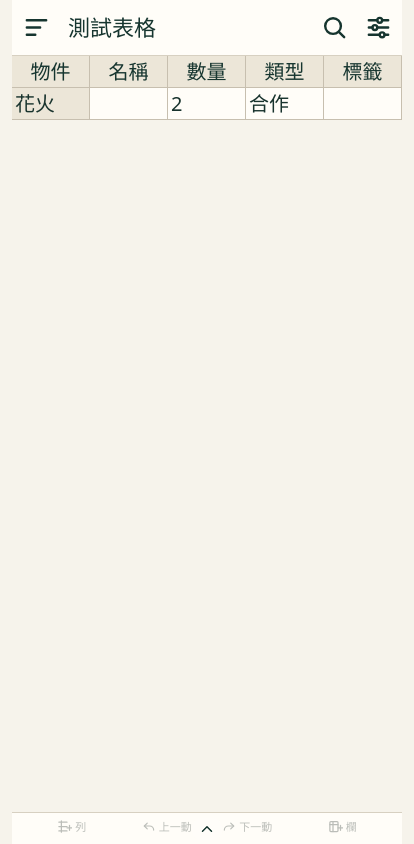
WorkspacePage.navigation › expands the mobile quick-action panel and keeps its four actions connected to table history
The width and height of the screenshot is (414, 844).
Step 1. Click the button with aria-label "展開快速操作" → (207, 828), box [12,813,402,843]
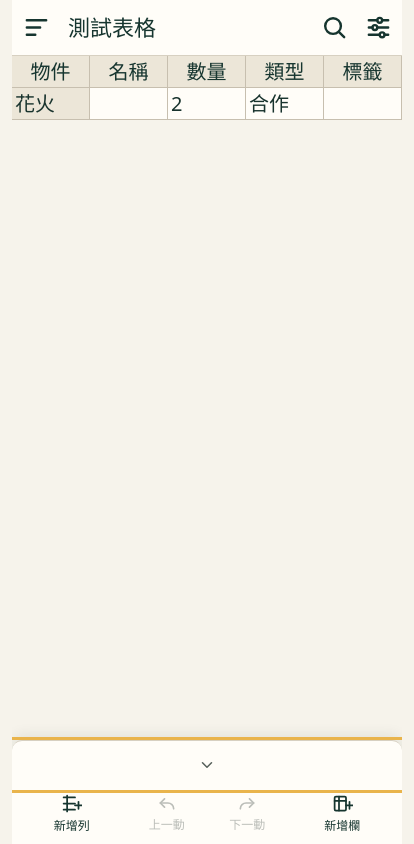
Expected: the button "上一動" is disabled, [128,787,205,839]
Expected: the button "下一動" is disabled, [209,787,286,839]
Step 2. Click the button "新增列" → (72, 813), box [19,787,124,839]
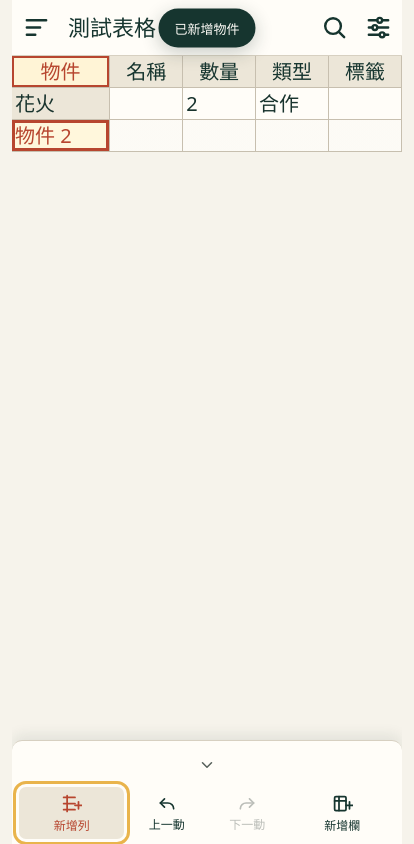
Expected: the element named "快速操作" is shown, [12,787,402,843]
Expected: the row "物件 2" is shown, [12,120,402,152]
Expected: the button "上一動" is enabled
Step 3. Click the button "上一動" → (167, 813), box [128,787,205,839]
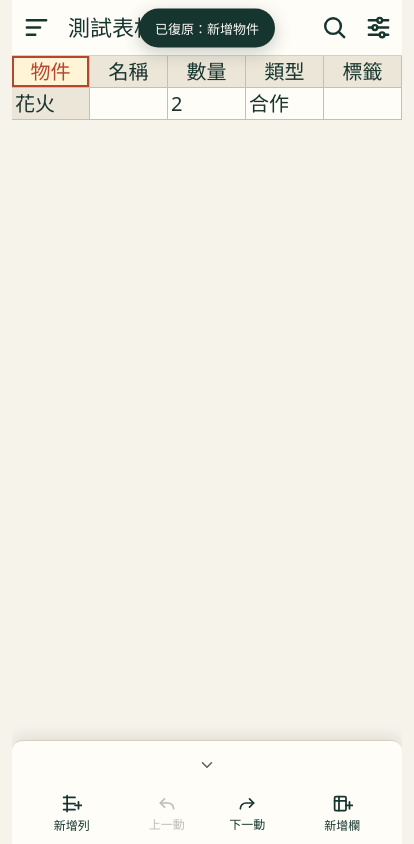
Expected: the button "物件 2" is gone
Expected: the button "下一動" is enabled
Step 4. Click the button "下一動" → (247, 813), box [209,787,286,839]
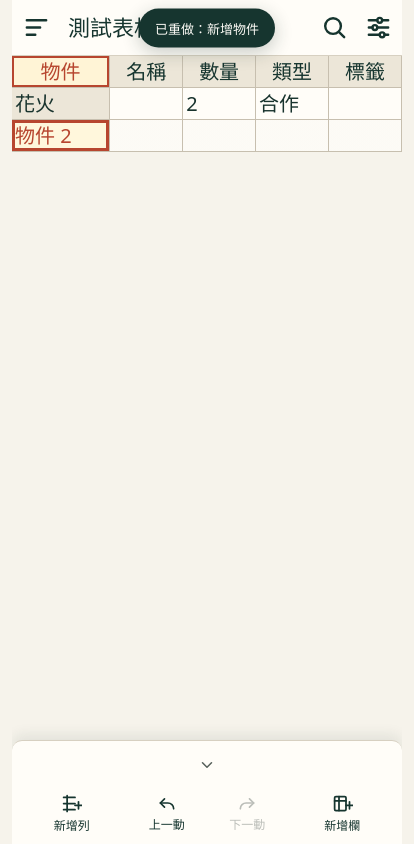
Expected: the row "物件 2" is shown, [12,120,402,152]
Step 5. Click the button "新增欄" → (342, 813), box [290,787,395,839]
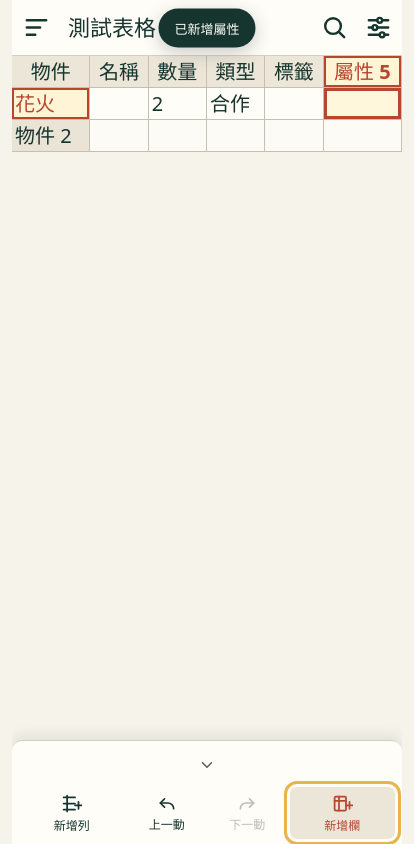
Expected: the column heading "屬性 5" is shown, [324,56,402,88]
Step 6. Click the button named "收合快速操作" → (207, 765), box [12,743,402,787]
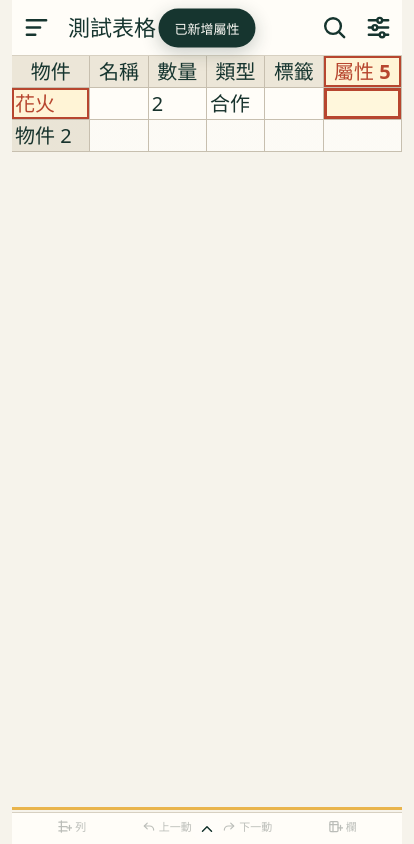
Expected: the button with aria-label "展開快速操作" is shown, [12,813,402,843]
